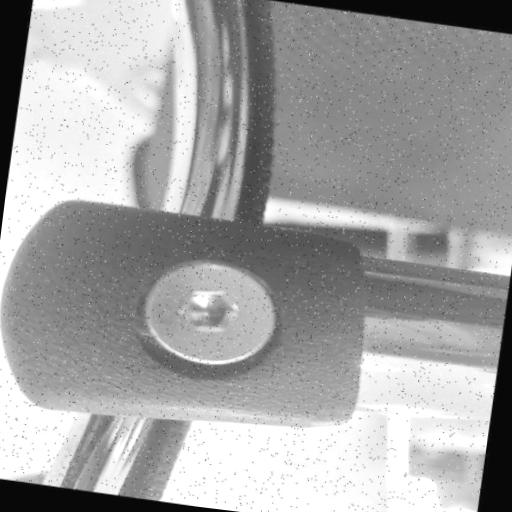Hex-Allen: (134, 240, 295, 388)
